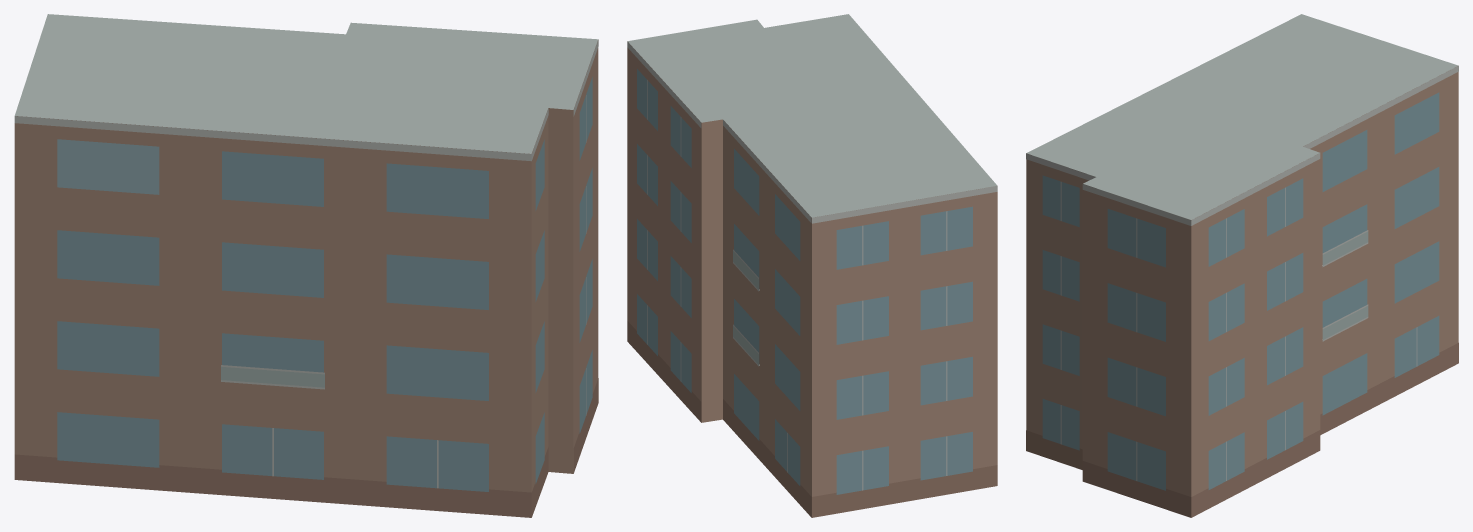
Rendered from survey-upis-32761267.glb.
3 views of the same model, side by side, from view 1: azimuth 30°, elevation 25°; view 2: azimuth 150°, elevation 25°; view 3: azimuth 270°, elevation 25° (orthographic). The views are drawn at different scales.
Visible parts, largest first — view 1: survey-upis-32761267.tmp; view 2: survey-upis-32761267.tmp; view 3: survey-upis-32761267.tmp.
Part boxes in pixels (x1,y1,x2,y2): survey-upis-32761267.tmp: (14,14,598,517); survey-upis-32761267.tmp: (627,14,997,517); survey-upis-32761267.tmp: (1026,14,1458,517).
Size of the model in its own units: 18.12 by 12.2 by 16.07.
